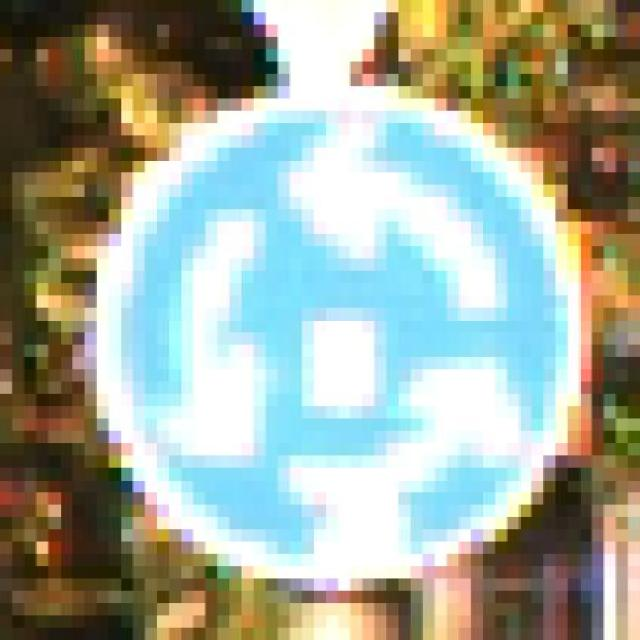Round-About: (49, 49, 616, 603)
